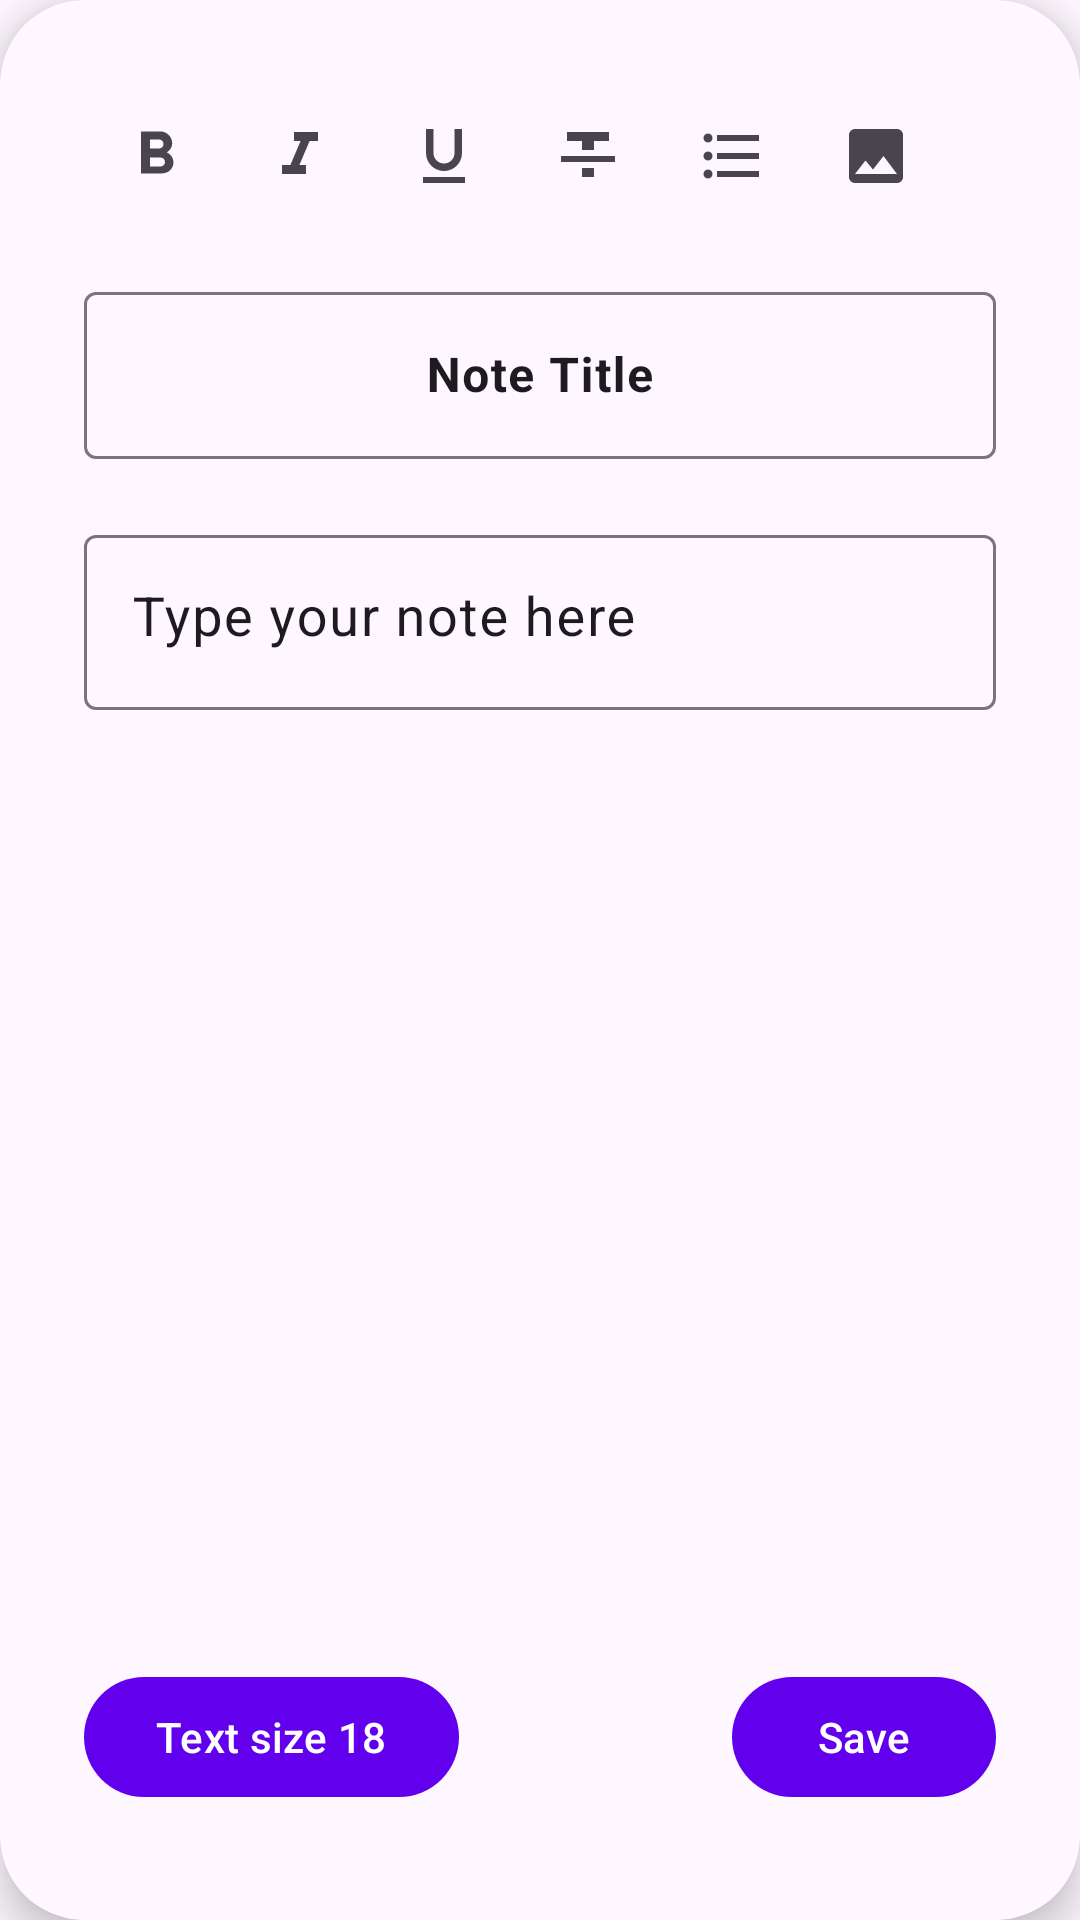

Screen size 1080 × 1920. Icon name, then its box in pixels as (x1, y1, x2, y2):
Add Image: (849, 129, 903, 183)
Bold: (141, 131, 174, 174)
Bullet List: (703, 133, 759, 179)
Italic: (282, 132, 318, 174)
Strikethrough: (561, 132, 615, 177)
Underline: (423, 129, 465, 183)
